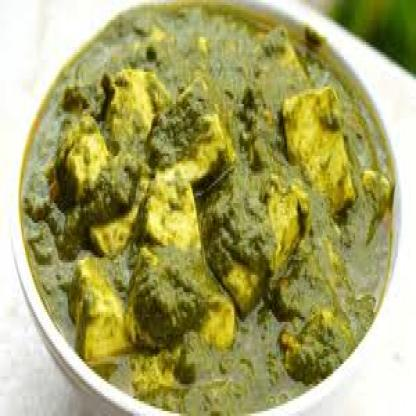palak_paneer: (21, 0, 395, 416)
